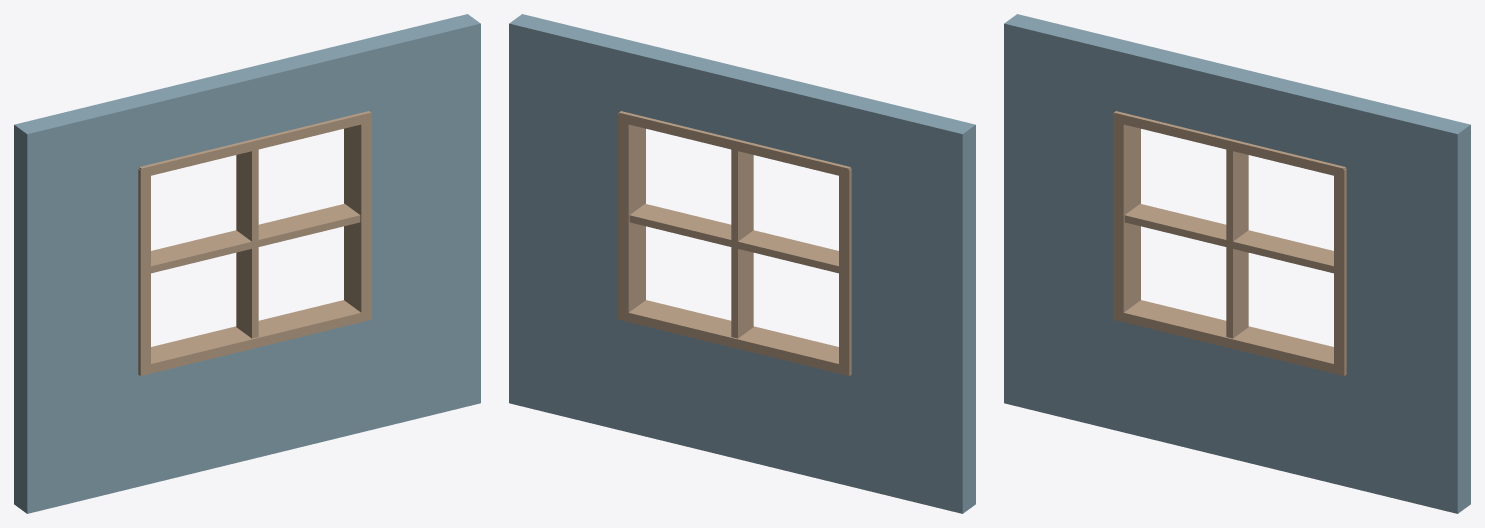
File: prop-window-wall.glb
The picture shows the model from 3 angles, left to right: view 1: azimuth 30°, elevation 25°; view 2: azimuth 150°, elevation 25°; view 3: azimuth 330°, elevation 25°; orthographic projection.
Visible parts, largest first — view 1: left-wall, right-wall, lower-wall, upper-wall, frame-0.74, frame-1, cross-bar, mullion, frame-1.99, frame--1; view 2: left-wall, right-wall, lower-wall, upper-wall, frame-0.74, frame-1, cross-bar, mullion, frame-1.99, frame--1; view 3: right-wall, left-wall, lower-wall, upper-wall, frame-0.74, frame--1, cross-bar, mullion, frame-1.99, frame-1.
Boxes of the visible parts, <box> form: left-wall: <box>14,97,138,513</box>; right-wall: <box>356,14,480,430</box>; lower-wall: <box>139,320,368,486</box>; upper-wall: <box>126,41,368,166</box>; frame-0.74: <box>141,300,370,375</box>; frame-1: <box>344,113,371,321</box>; cross-bar: <box>151,203,360,273</box>; mullion: <box>236,149,258,338</box>; frame-1.99: <box>139,111,370,177</box>; frame--1: <box>138,168,150,375</box>; left-wall: <box>851,97,975,513</box>; right-wall: <box>509,14,633,430</box>; lower-wall: <box>621,320,850,486</box>; upper-wall: <box>621,41,863,166</box>; frame-0.74: <box>619,300,839,373</box>; frame-1: <box>618,113,645,321</box>; cross-bar: <box>629,203,838,273</box>; mullion: <box>731,149,753,338</box>; frame-1.99: <box>619,111,850,175</box>; frame--1: <box>839,168,851,375</box>; right-wall: <box>1346,97,1470,513</box>; left-wall: <box>1004,14,1128,430</box>; lower-wall: <box>1116,320,1345,486</box>; upper-wall: <box>1116,41,1358,166</box>; frame-0.74: <box>1114,300,1334,373</box>; frame--1: <box>1113,113,1140,321</box>; cross-bar: <box>1124,203,1333,273</box>; mullion: <box>1226,149,1248,338</box>; frame-1.99: <box>1114,111,1345,175</box>; frame-1: <box>1334,168,1346,375</box>.
Size of the model in its own units: 3 by 2.4 by 0.2.
